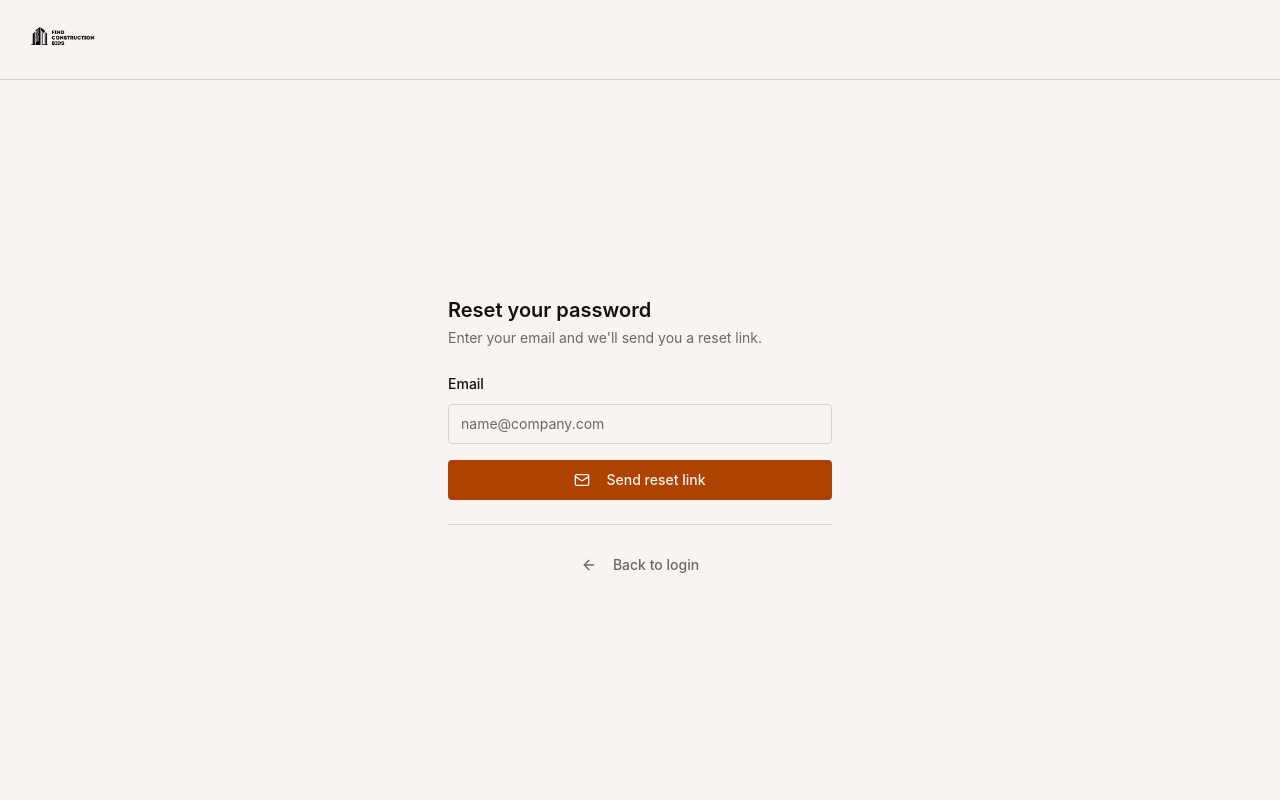
Test: ForgotPasswordPage › successful submission › shows the "Check your inbox" success state after valid submission
In the field with test id "input-email": (640, 424) [448,404,832,444], type "user@example.com"
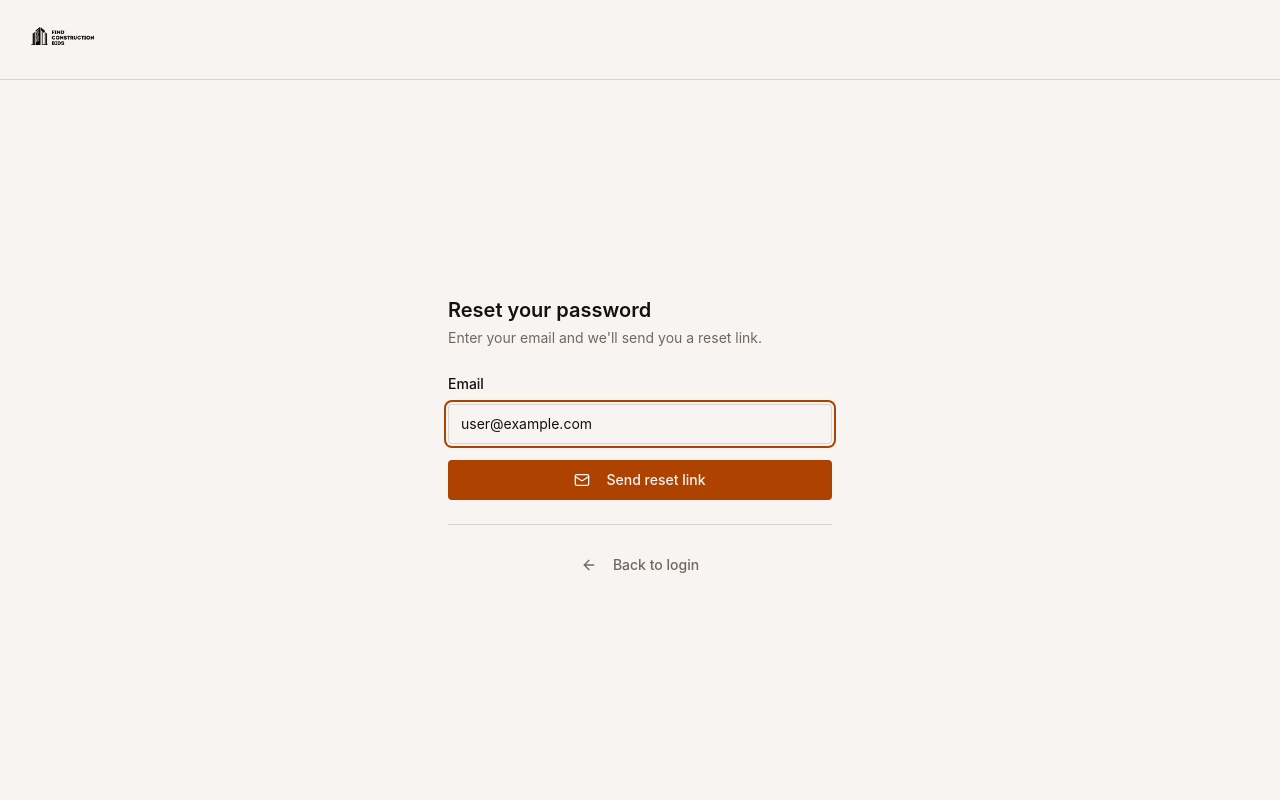
Click the button with test id "button-send-reset": (640, 480) [448,460,832,500]
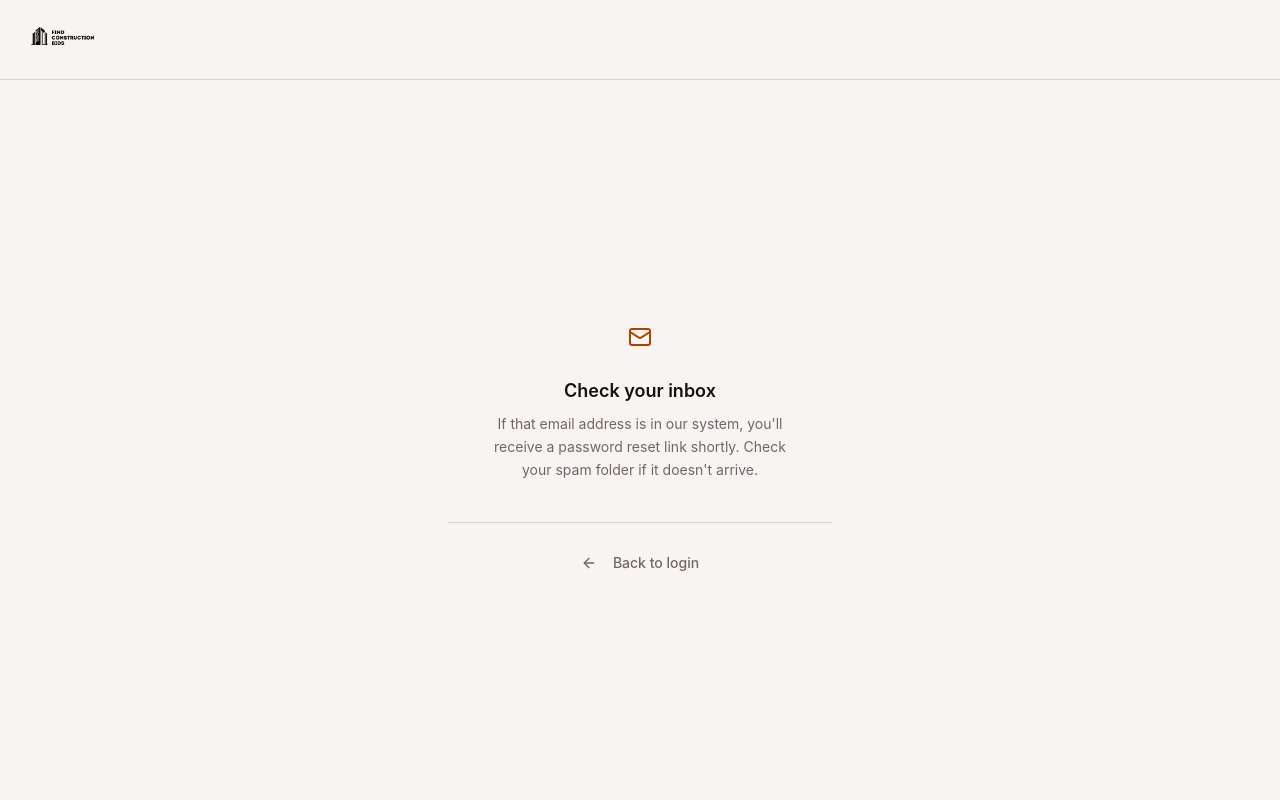
Expected: the heading "Check your inbox" is shown, [564,380,716,401]
